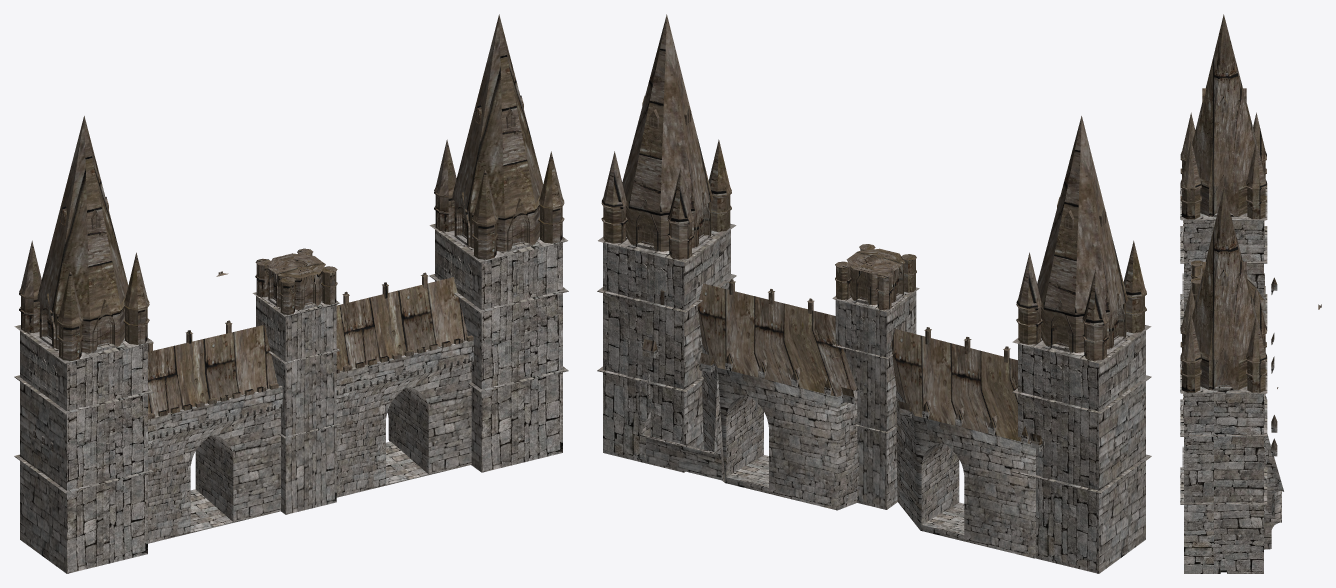
The model's file is caetle.fbx.
3 views of the same model, side by side, from view 1: azimuth 30°, elevation 25°; view 2: azimuth 150°, elevation 25°; view 3: azimuth 270°, elevation 25° (orthographic). The views are drawn at different scales.
Parts seen in each view (by area): view 1: Hogwarts001; view 2: Hogwarts001; view 3: Hogwarts001.
Part boxes in pixels (x1,y1,x2,y2): Hogwarts001: (14,14,568,573); Hogwarts001: (597,14,1151,573); Hogwarts001: (1180,14,1321,573).
Size of the model in its own units: 2124 by 1741 by 604.
2 materials, 2 textured.
